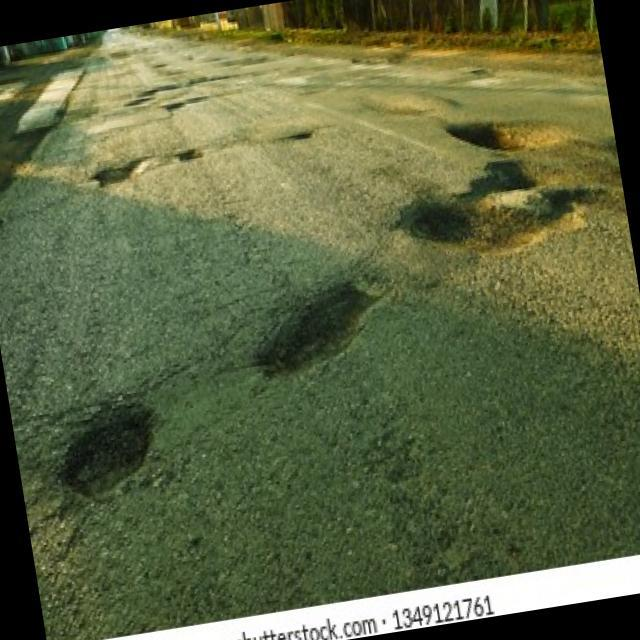Pothole: (247, 268, 401, 381), (49, 392, 170, 512), (458, 136, 622, 208), (444, 101, 580, 166), (398, 185, 496, 272), (486, 190, 596, 264), (90, 151, 157, 189), (173, 145, 204, 164), (288, 130, 316, 143)
